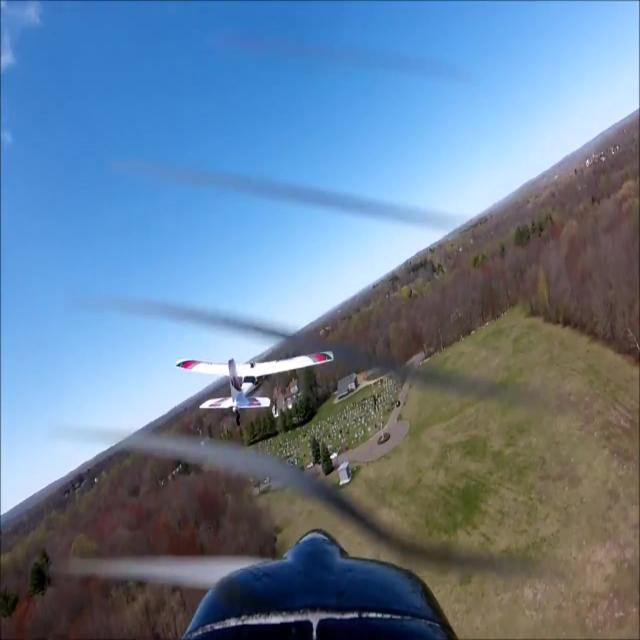iha: (175, 381, 334, 385)
